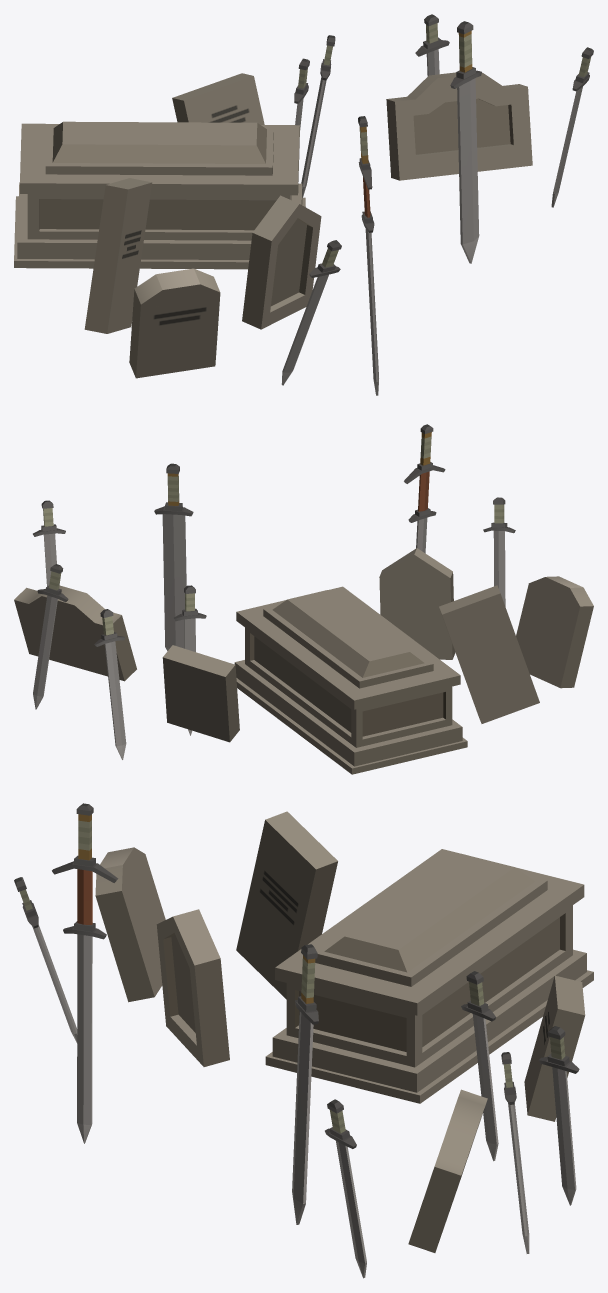
Rendered from SF_Prop_Undead_Graves_02.fbx.
3 renders of one model, top to bottom at view 1: azimuth 30°, elevation 25°; view 2: azimuth 150°, elevation 25°; view 3: azimuth 270°, elevation 25°, orthographic. The views are drawn at different scales.
Parts seen in each view (by area): view 1: SF_Prop_Undead_Graves_02; view 2: SF_Prop_Undead_Graves_02; view 3: SF_Prop_Undead_Graves_02.
Part boxes in pixels (bbox=[...]): SF_Prop_Undead_Graves_02: bbox=[14, 14, 593, 395]; SF_Prop_Undead_Graves_02: bbox=[14, 424, 593, 774]; SF_Prop_Undead_Graves_02: bbox=[14, 803, 593, 1278].
Size of the model in its own units: 7.66 by 3.76 by 5.97.
